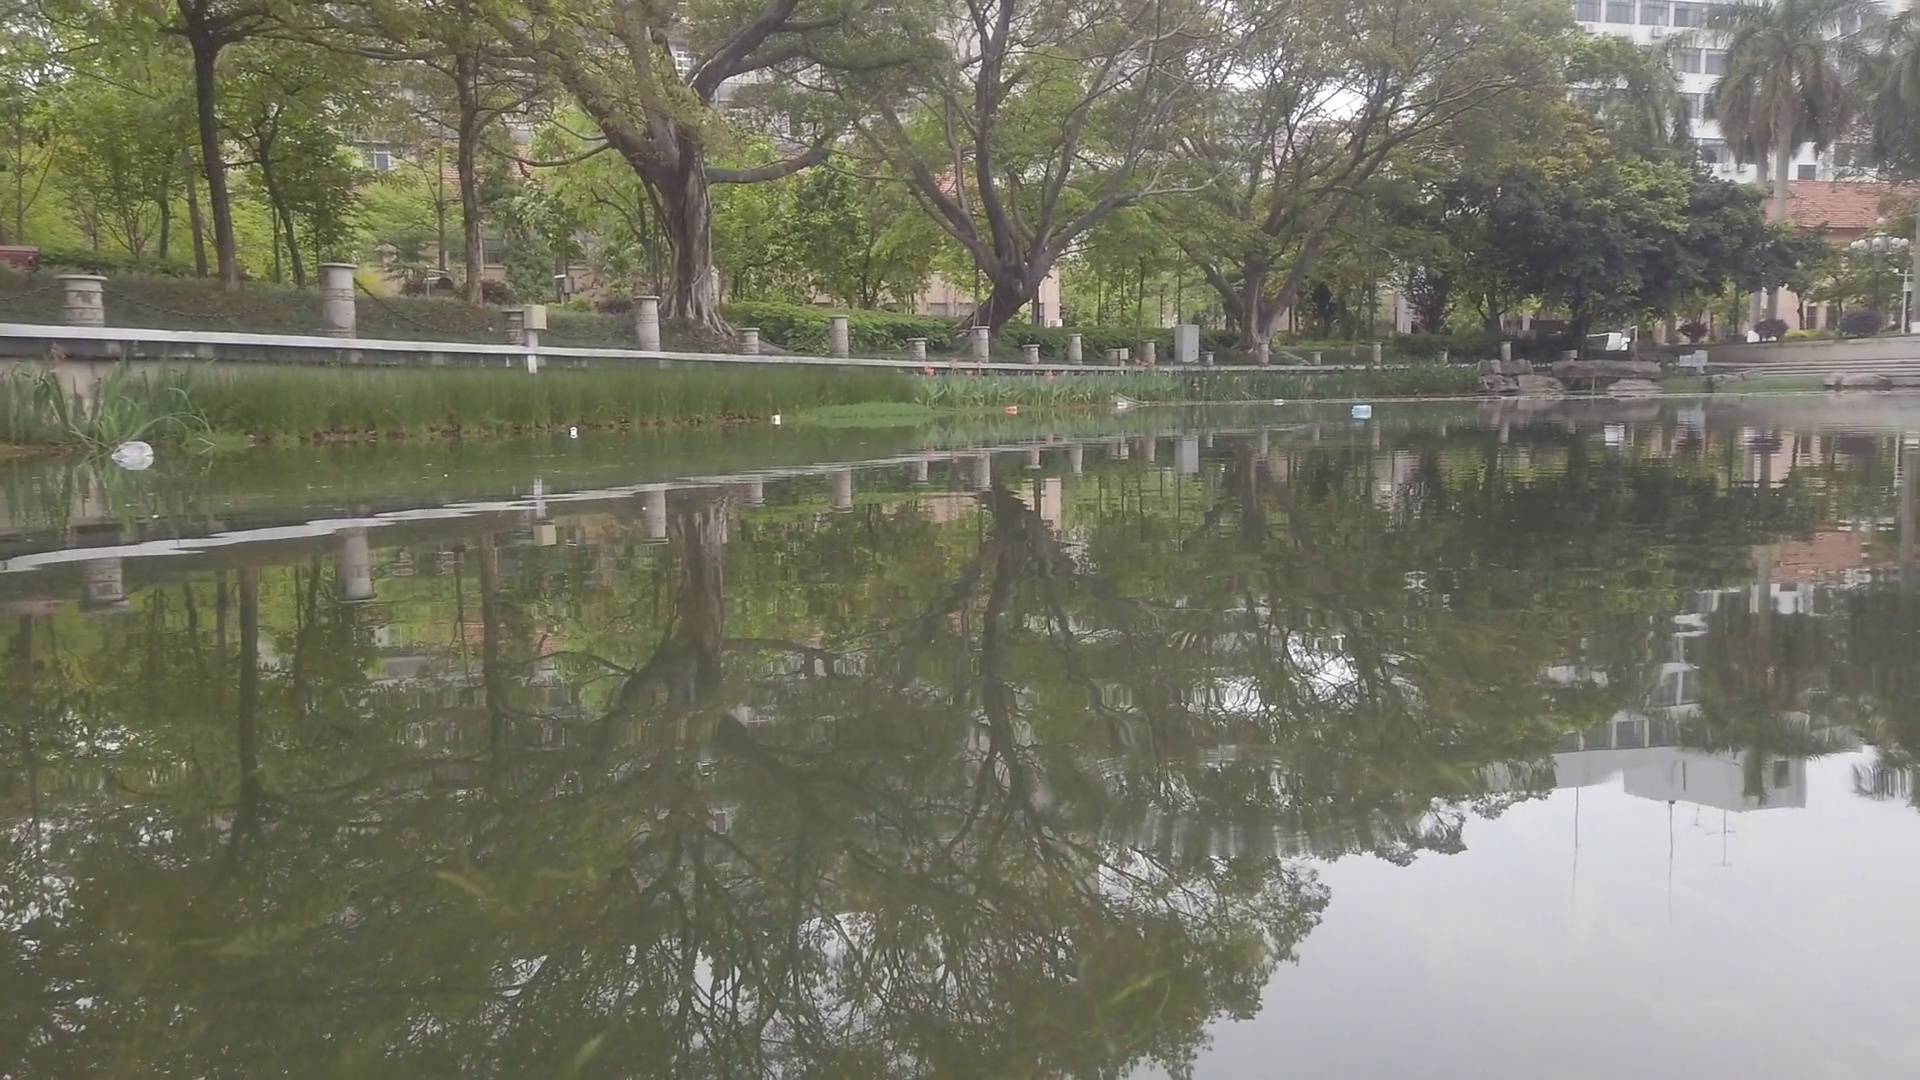bottle: (1005, 406, 1021, 413), (1118, 400, 1130, 407), (1273, 398, 1284, 406), (571, 426, 576, 435)
carton: (1352, 404, 1371, 418), (771, 413, 781, 425)
plastic: (113, 440, 156, 462)
